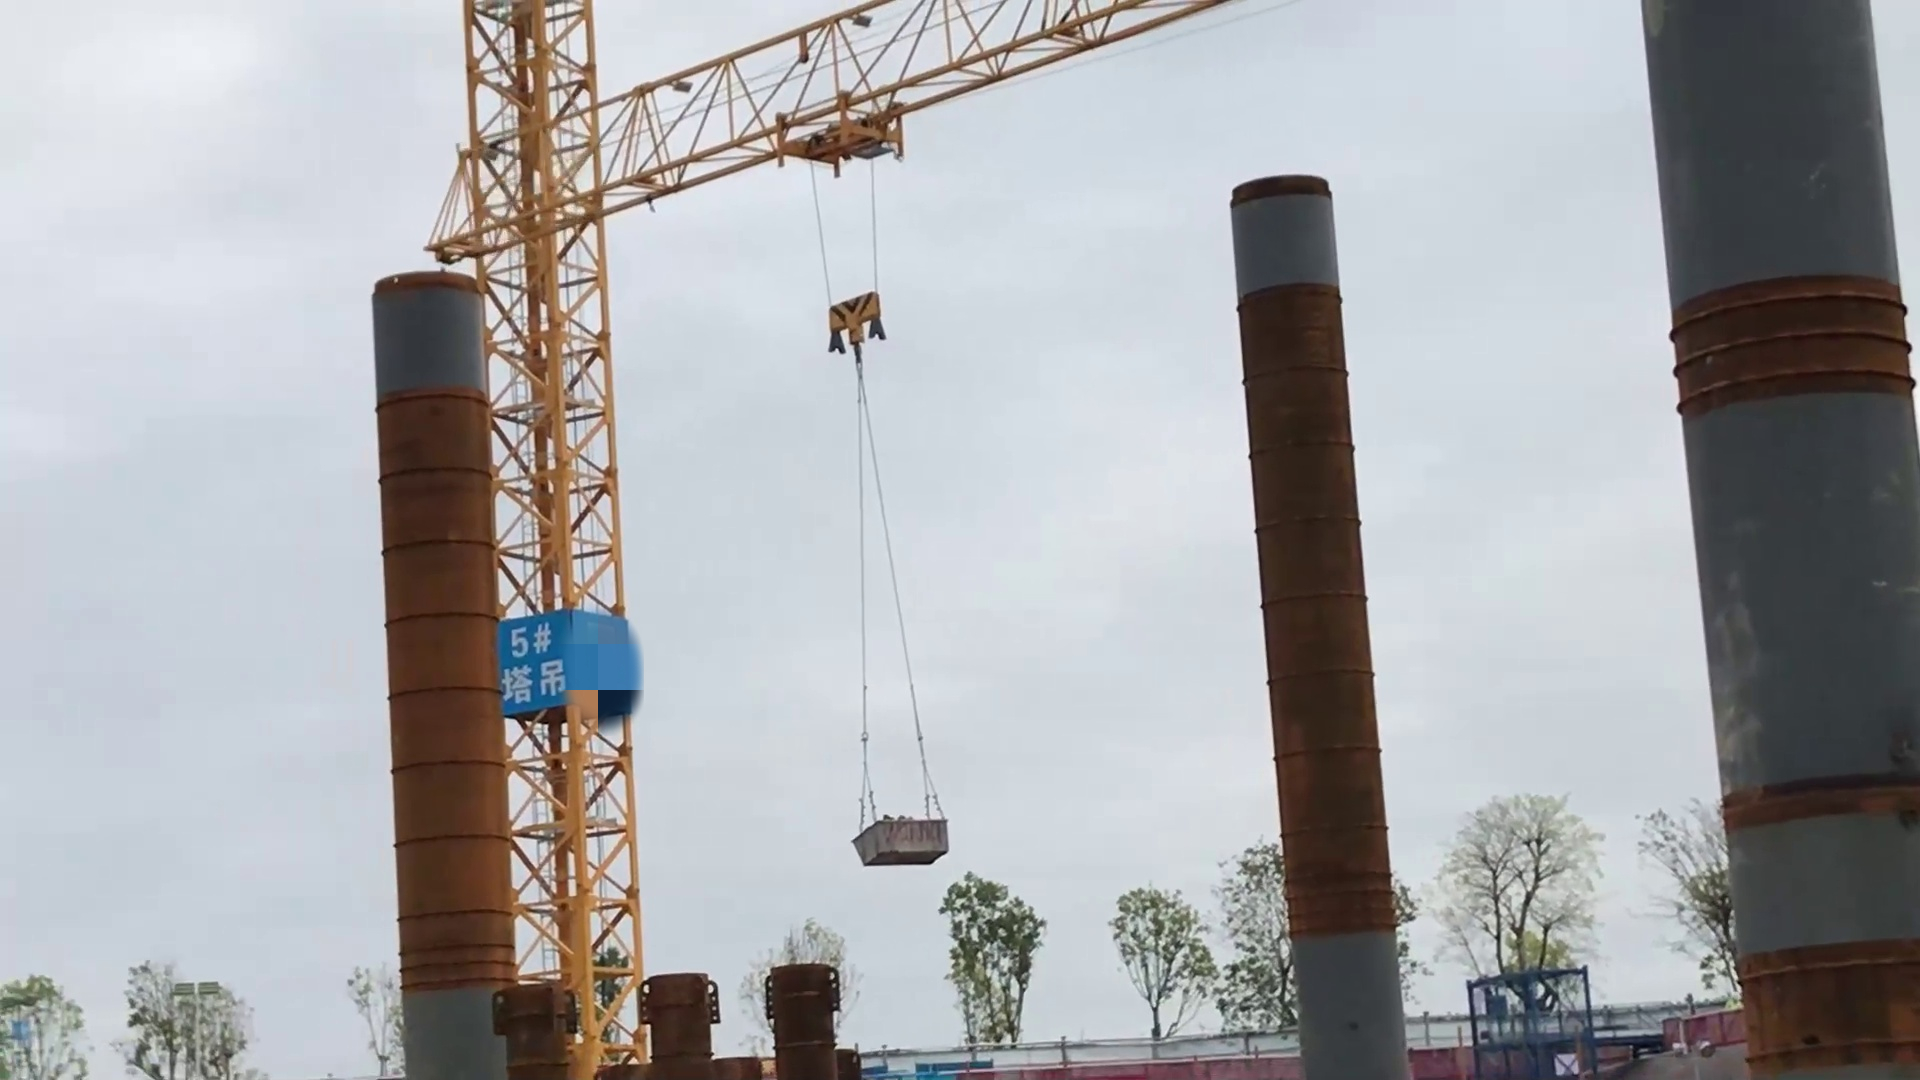hook: (824, 295, 887, 345)
hopper: (853, 807, 956, 869)
